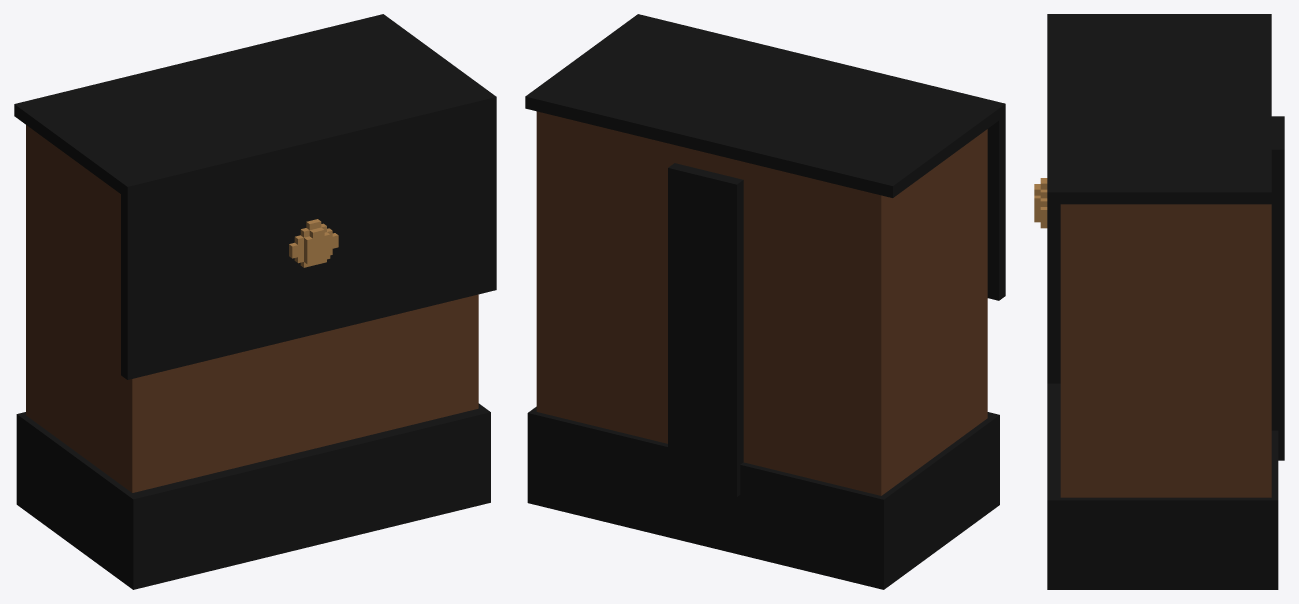
Rendered from leather_stone_pouch.glb.
3 renders of one model, left to right at view 1: azimuth 30°, elevation 25°; view 2: azimuth 150°, elevation 25°; view 3: azimuth 270°, elevation 25°, orthographic.
Parts seen in each view (by area): view 1: leather_stone_pouch:compound; view 2: leather_stone_pouch:compound; view 3: leather_stone_pouch:compound.
Part boxes in pixels (x1,y1,x2,y2): leather_stone_pouch:compound: (14, 14, 496, 589); leather_stone_pouch:compound: (525, 14, 1005, 589); leather_stone_pouch:compound: (1034, 14, 1284, 589).
Size of the model in its own units: 0.128 by 0.134 by 0.076.
